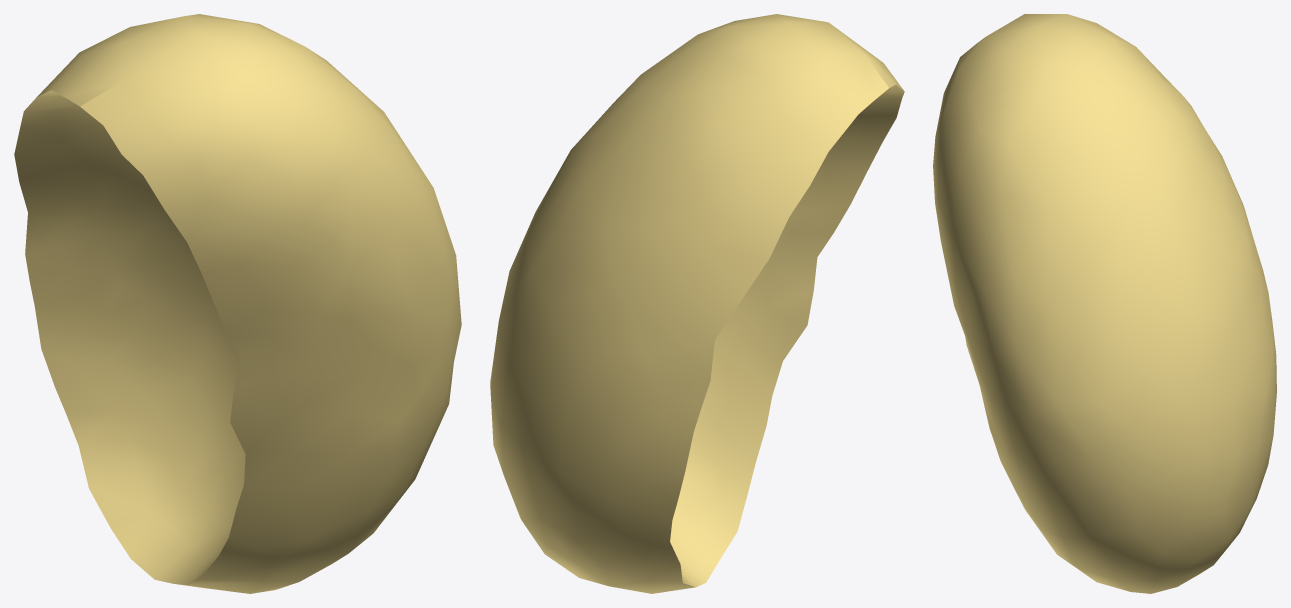
Rendered from fma54535_mm3503.glb.
The picture shows the model from 3 angles, left to right: view 1: azimuth 30°, elevation 25°; view 2: azimuth 150°, elevation 25°; view 3: azimuth 270°, elevation 25°; orthographic projection. The views are drawn at different scales.
Parts seen in each view (by area): view 1: FMA54535_MM3503; view 2: FMA54535_MM3503; view 3: FMA54535_MM3503.
Part boxes in pixels (box(x1,y1,x2,y2)): FMA54535_MM3503: box(14, 14, 461, 593); FMA54535_MM3503: box(490, 14, 904, 593); FMA54535_MM3503: box(933, 14, 1276, 593).
Size of the model in its own units: 0.00315 by 0.00476 by 0.00292.
